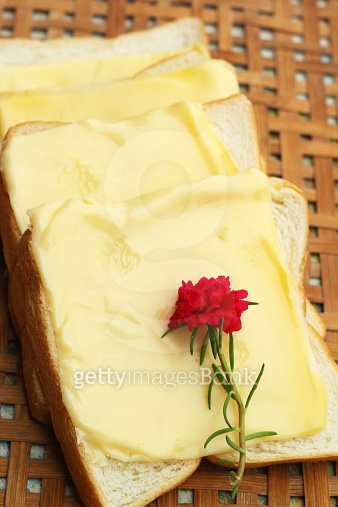slice of bread: (13, 196, 338, 500), (2, 39, 300, 243)
